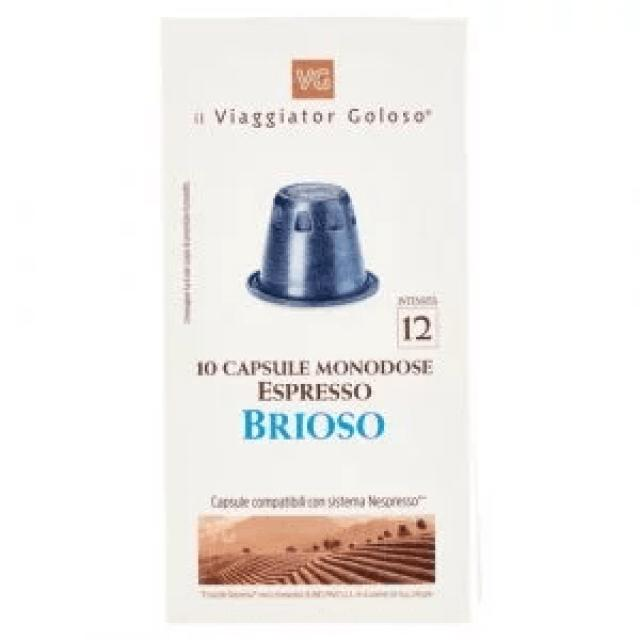Coffee: (157, 12, 477, 630)
